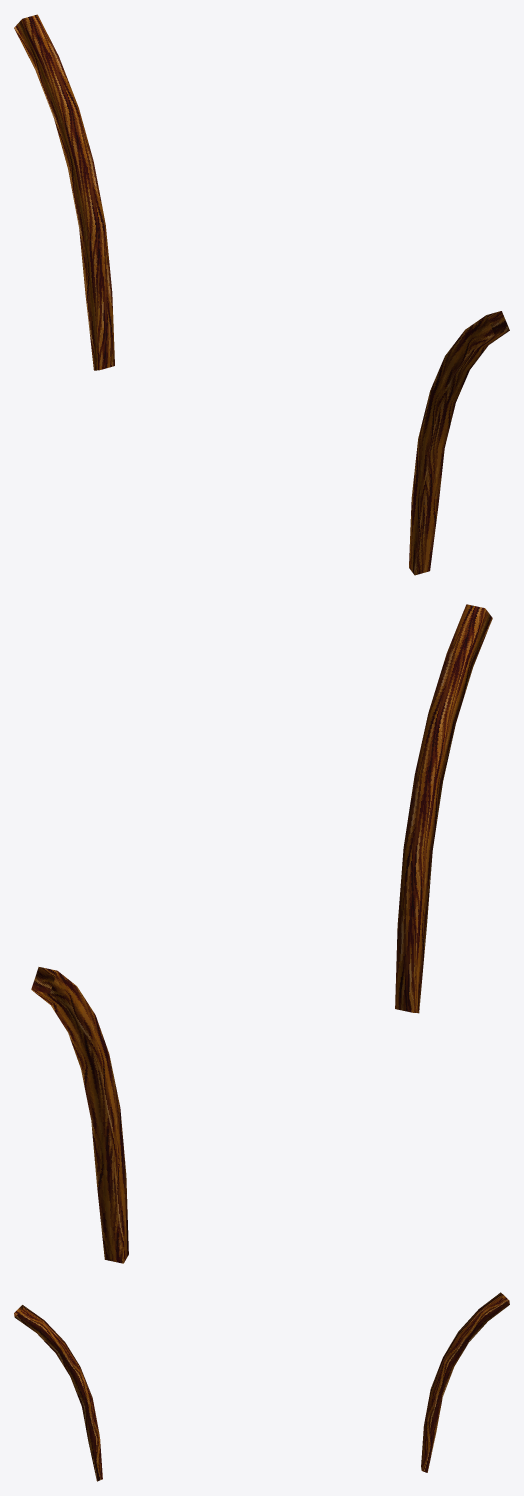
File: EKH_BARRELROOM_PS_JA1_ARCHPIECESSID.fbx
3 renders of one model, top to bottom at view 1: azimuth 30°, elevation 25°; view 2: azimuth 150°, elevation 25°; view 3: azimuth 270°, elevation 25°, orthographic. The views are drawn at different scales.
Parts seen in each view (by area): view 1: EKH_BARRELROOM_PS_JA1_ARCHPIECESSID; view 2: EKH_BARRELROOM_PS_JA1_ARCHPIECESSID; view 3: EKH_BARRELROOM_PS_JA1_ARCHPIECESSID.
Boxes of the visible parts, left/top/right/bottom form: EKH_BARRELROOM_PS_JA1_ARCHPIECESSID: left=14, top=14, right=509, bottom=575; EKH_BARRELROOM_PS_JA1_ARCHPIECESSID: left=31, top=604, right=492, bottom=1263; EKH_BARRELROOM_PS_JA1_ARCHPIECESSID: left=14, top=1292, right=509, bottom=1481.
Bounding box in the file's own units: 3068 × 14477 × 37290.
Materials: 1 (1 with a texture image).
